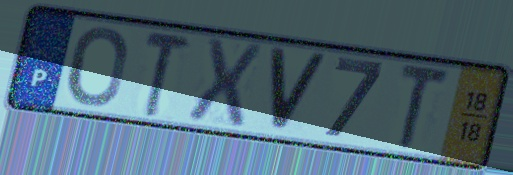7: (321, 54, 390, 143)
O: (65, 25, 130, 109)
T: (396, 61, 454, 153), (141, 28, 195, 121)
V: (266, 44, 331, 137)
X: (183, 34, 266, 130)
